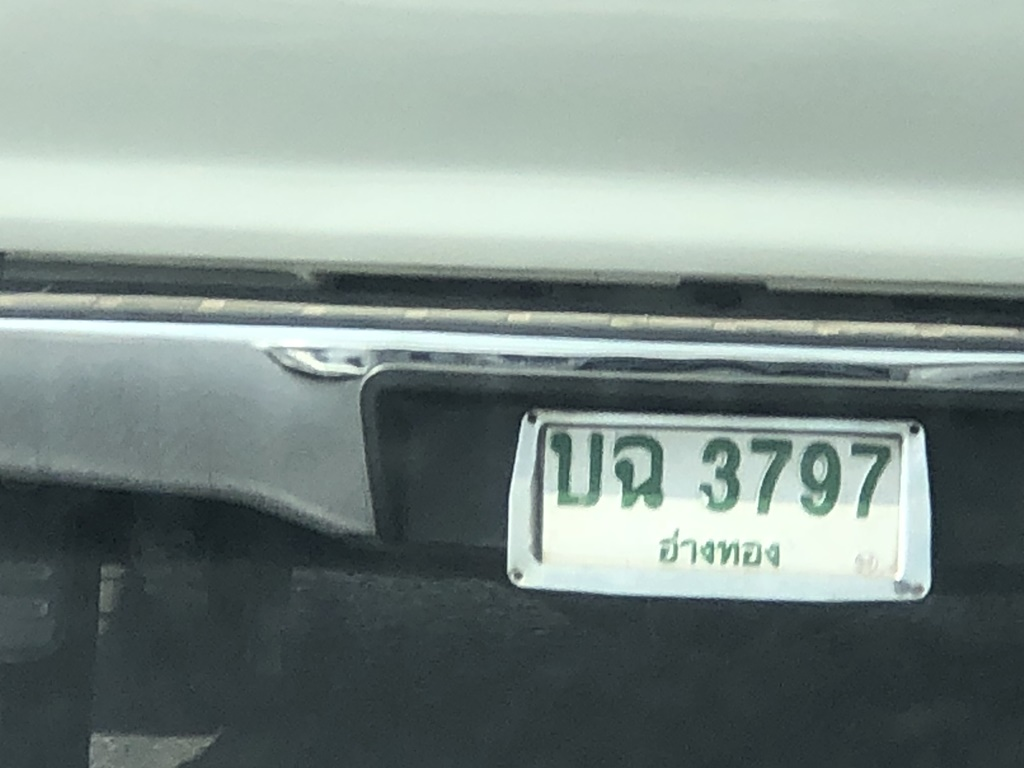nine: (785, 436, 852, 527)
seven: (836, 435, 899, 525), (737, 433, 797, 518)
three: (686, 427, 744, 520)
